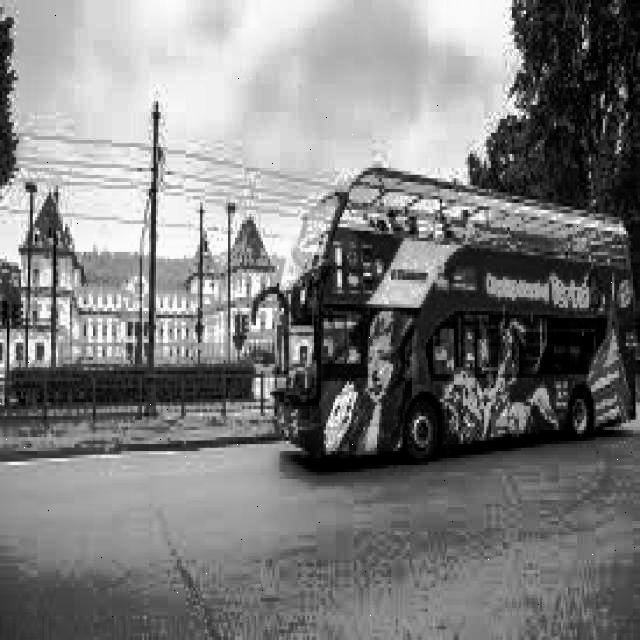Bus: (271, 199, 640, 458)
